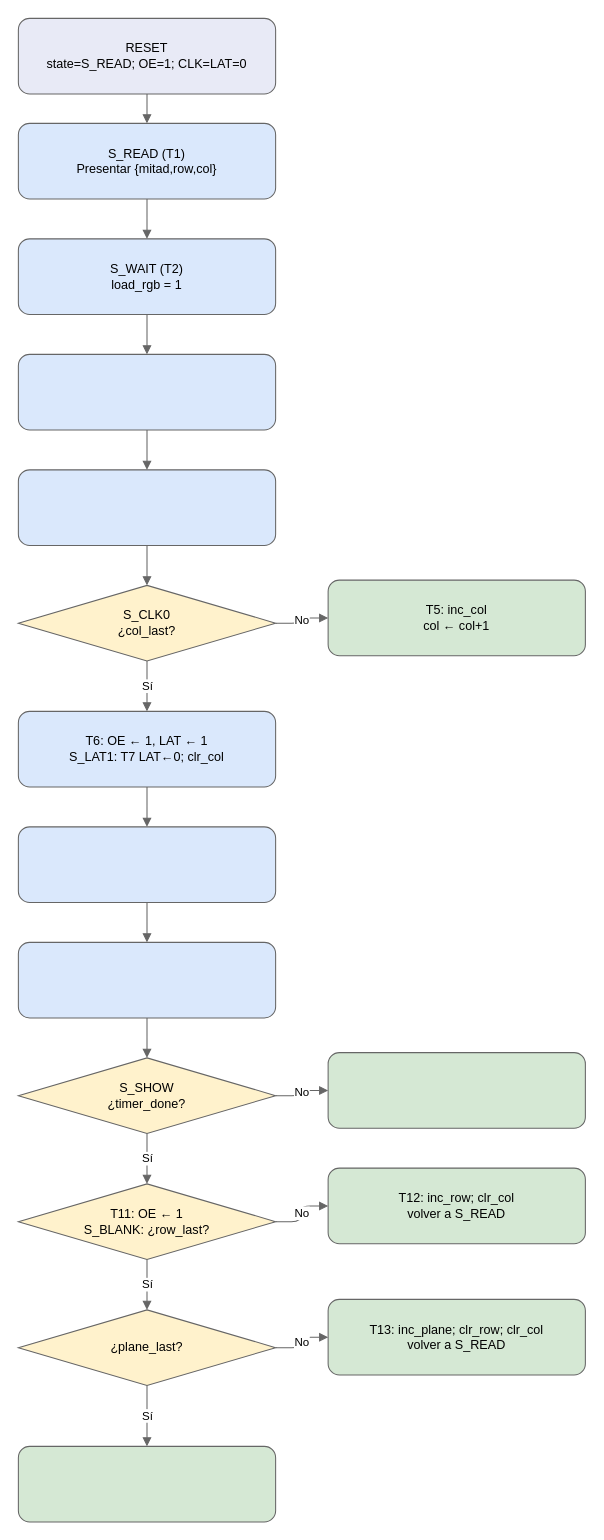
The diagram is 604 pixels wide and 1540 high, and some of its shapes have lost their labels. The shapes that lost their labels are listed below. From the top down, each one's box as (x1, y1, x2, y2) in pixels, then its label:
(17, 353, 276, 430): S_BITS (T3) hub_clk_next = 1
(17, 469, 276, 545): S_CLK1 (T4) hub_clk_next = 0
(17, 826, 276, 902): S_LAT0 (T8) load_addr = 1
(17, 941, 276, 1018): S_ADDR (T9) OE ← 0; clr_timer=1
(327, 1052, 585, 1128): T10: inc_timer permanecer en S_SHOW
(17, 1445, 276, 1522): T14: clr_plane; clr_row; clr_col volver a S_READ
